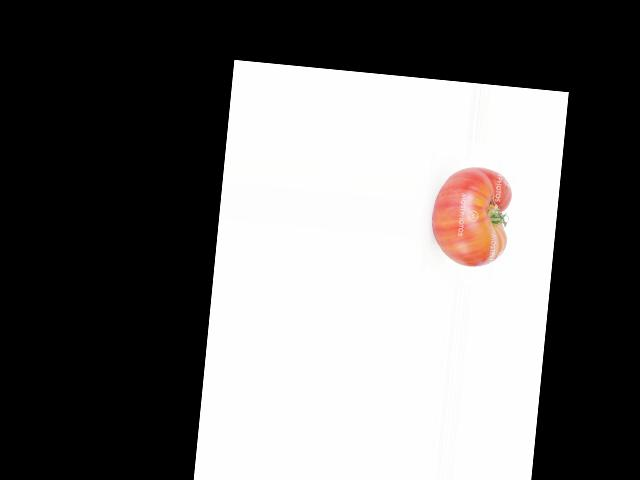tomato: (428, 164, 514, 270)
